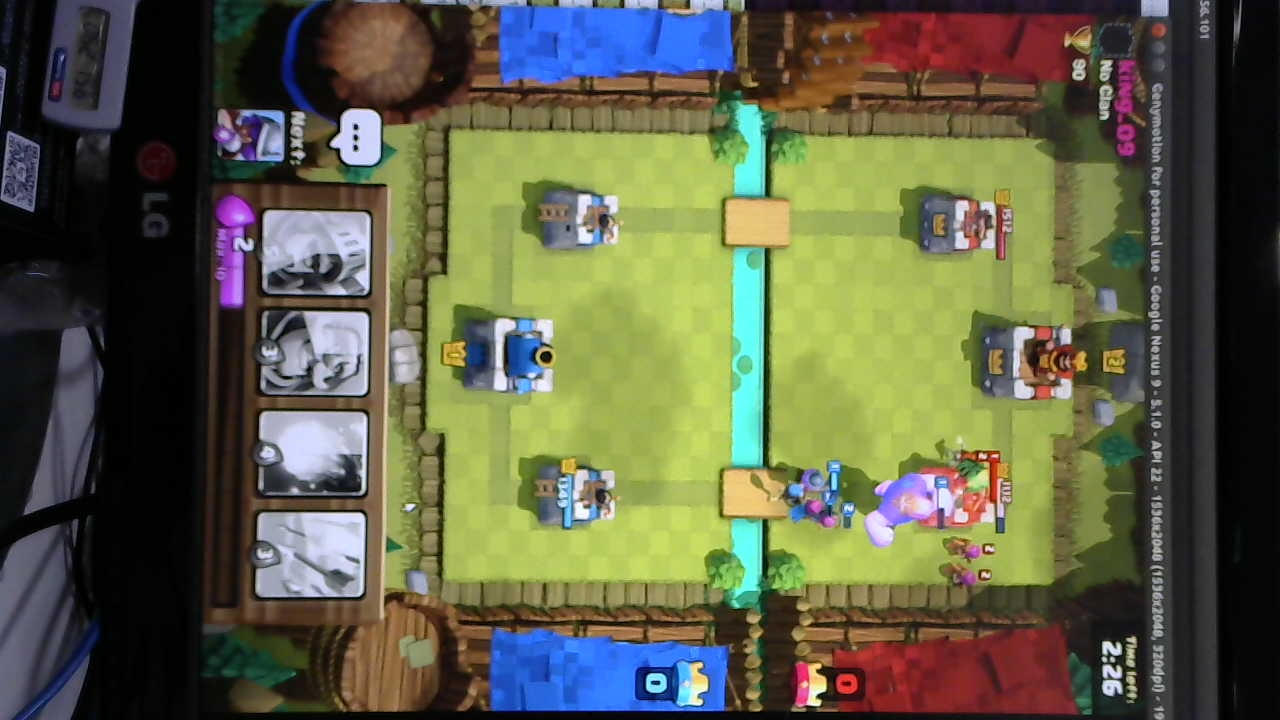archers: (942, 532, 994, 596), (794, 496, 854, 529)
arena: (536, 463, 621, 529), (540, 190, 623, 253)
bomb: (767, 481, 806, 511)
dragon: (941, 453, 1013, 496)
earena: (916, 194, 998, 258), (933, 467, 998, 528)
eking: (975, 323, 1086, 400)
giant: (870, 470, 936, 546)
king: (463, 312, 560, 399)
musketeer: (794, 464, 831, 496)
